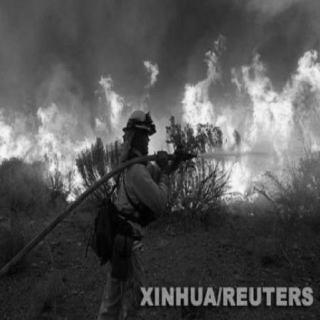Fire: (180, 50, 316, 182)
